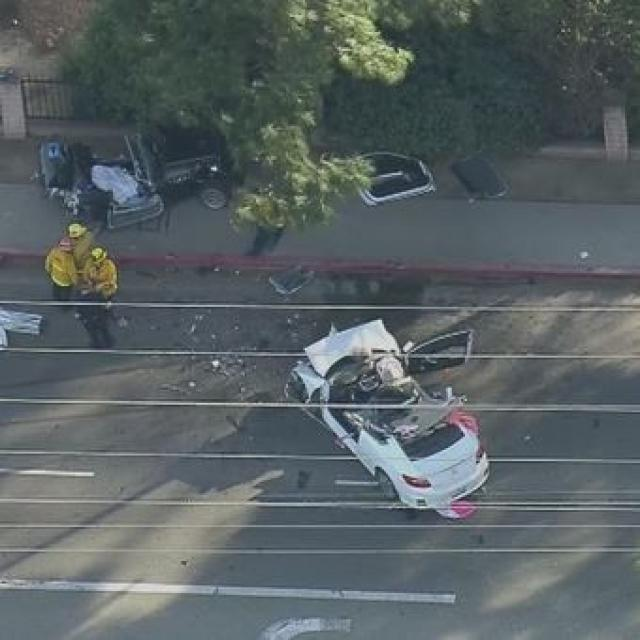traffic_incident: (273, 326, 501, 520)
